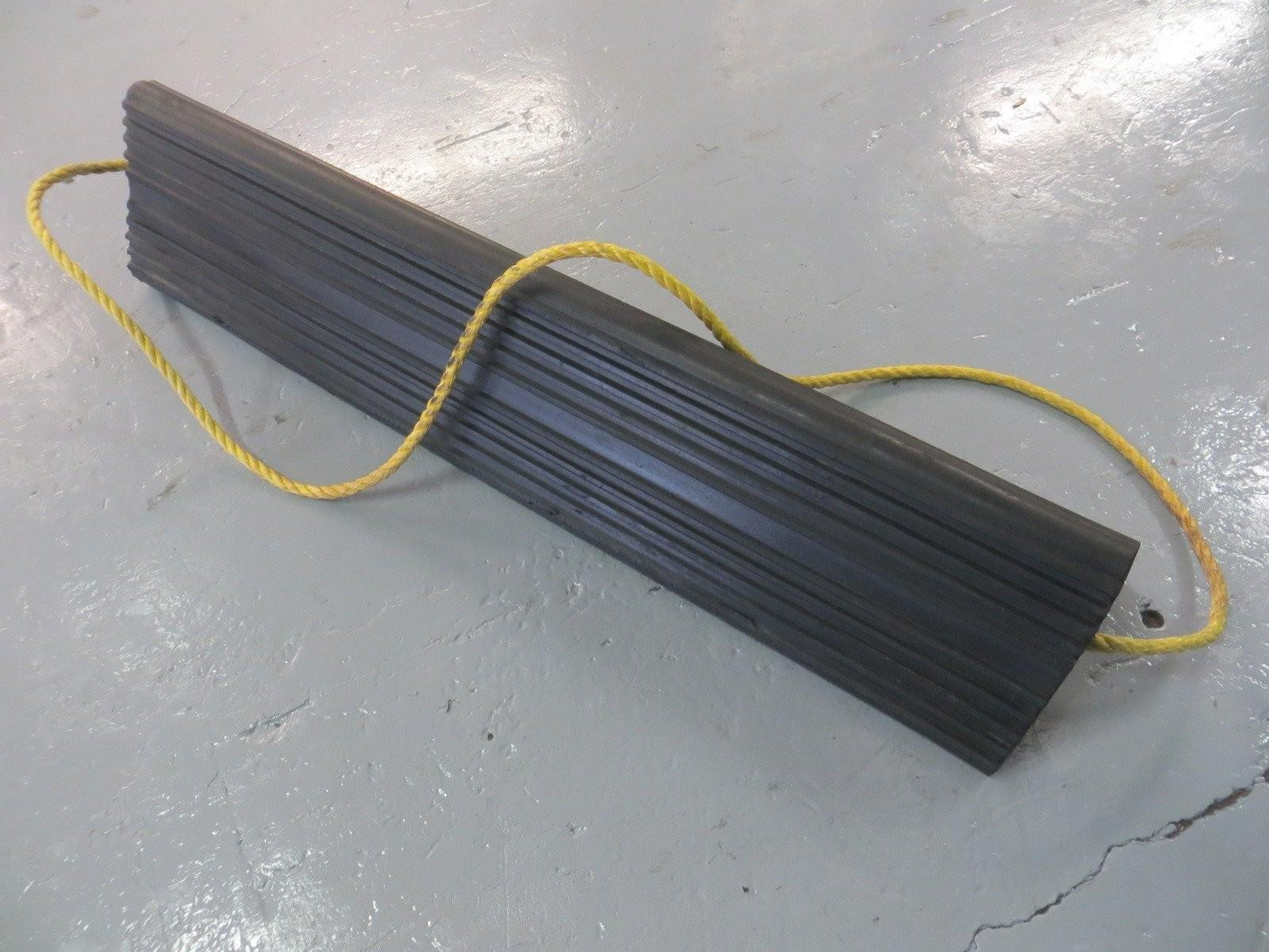boots: (116, 69, 1145, 793)
